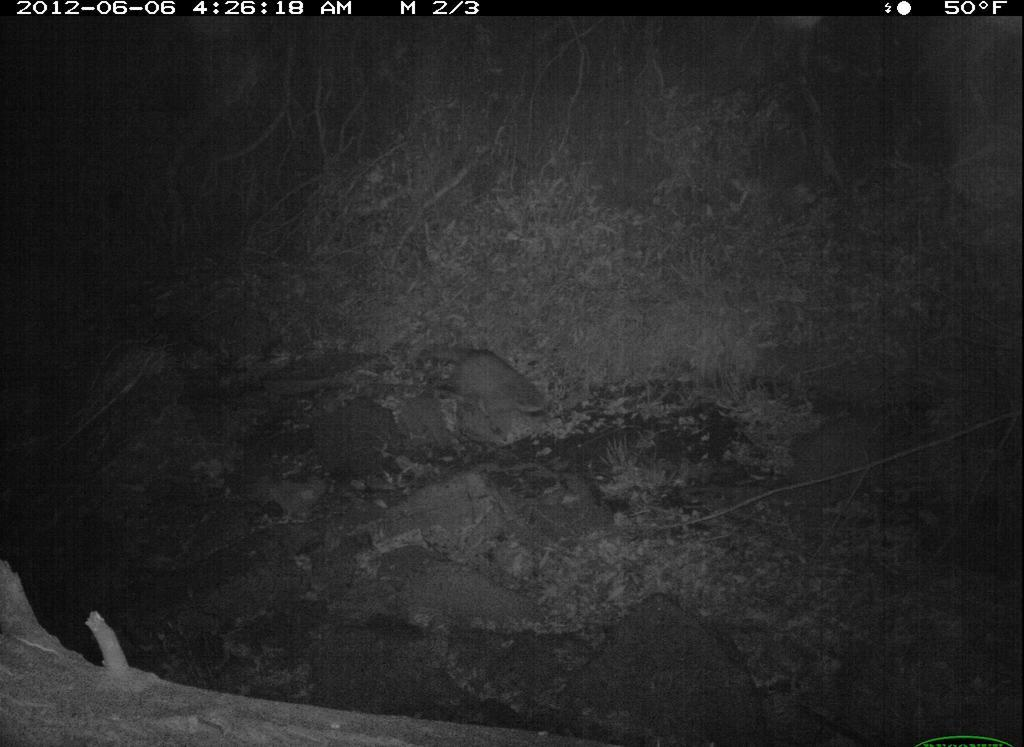raccoon: (415, 341, 561, 449)
